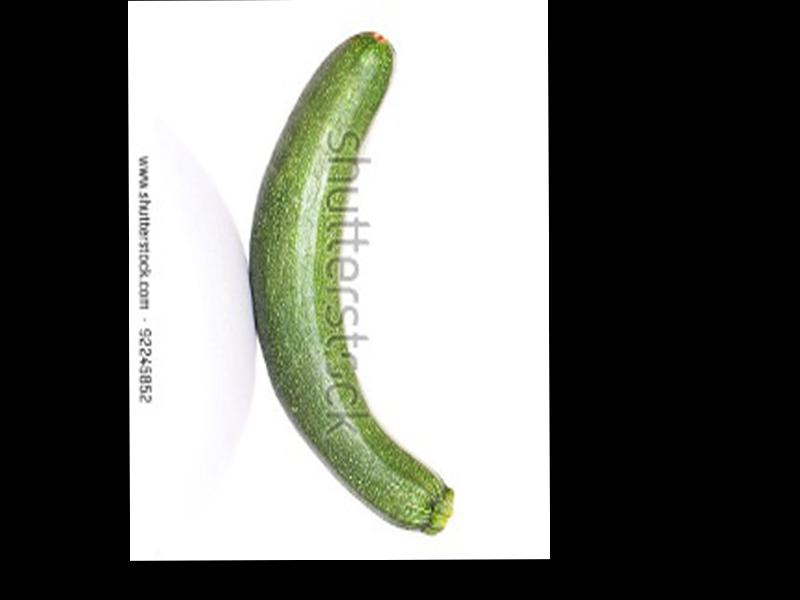Cucumber: (249, 32, 455, 533)
